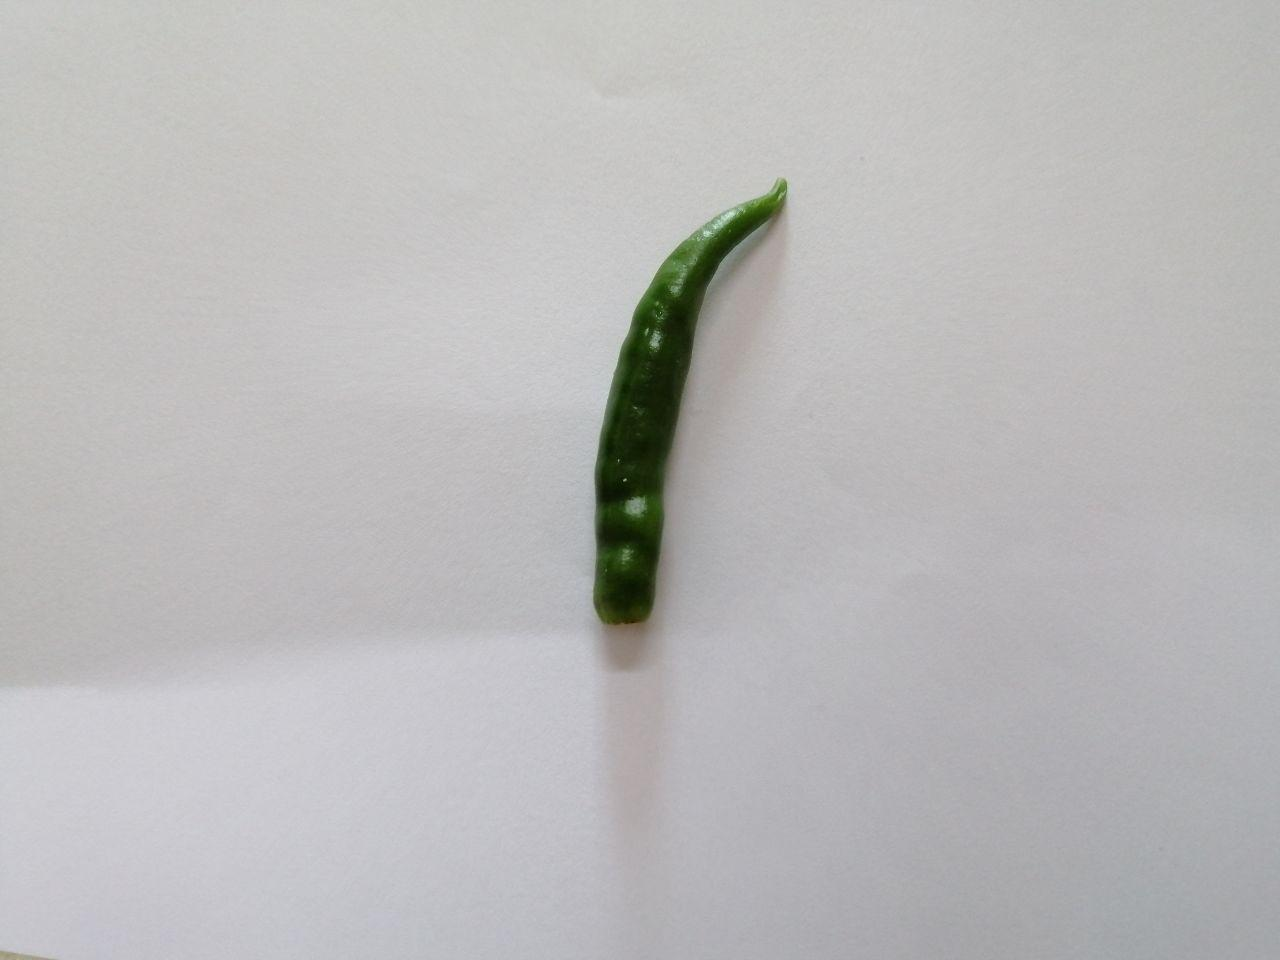lada hijau: (562, 164, 806, 643)
